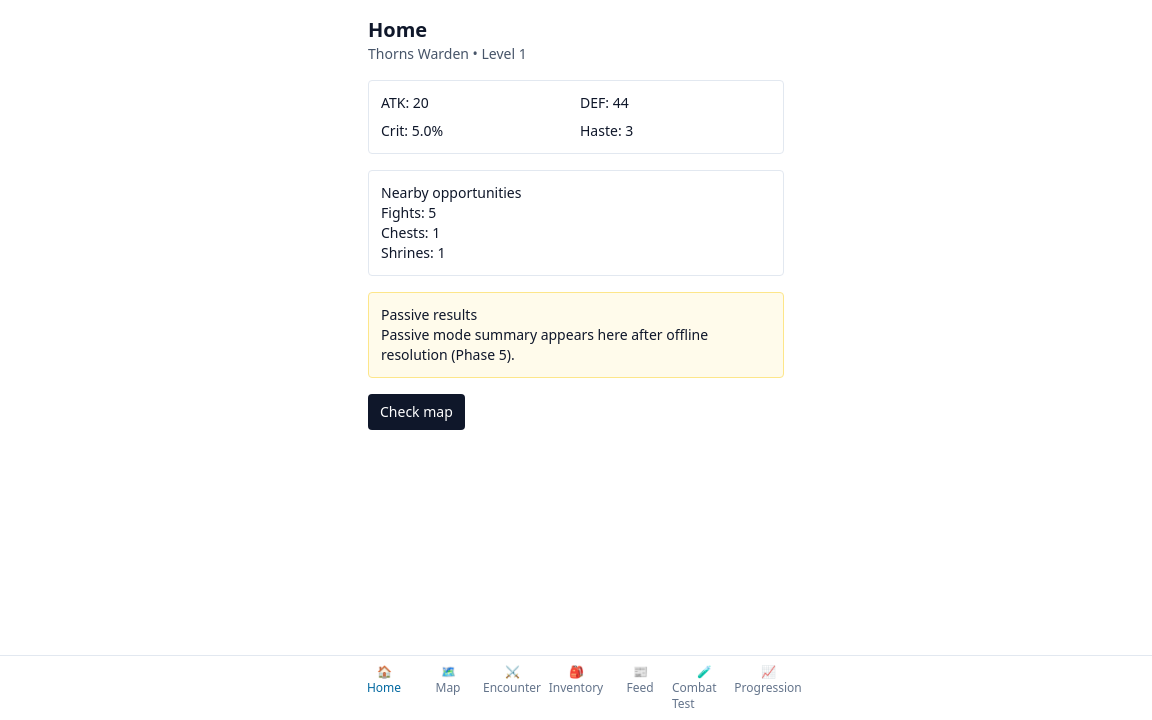
App shell routing › navigates to map and encounter fallback
Click the link named "🗺️Map" at (448, 680), box [436,663,460,696]
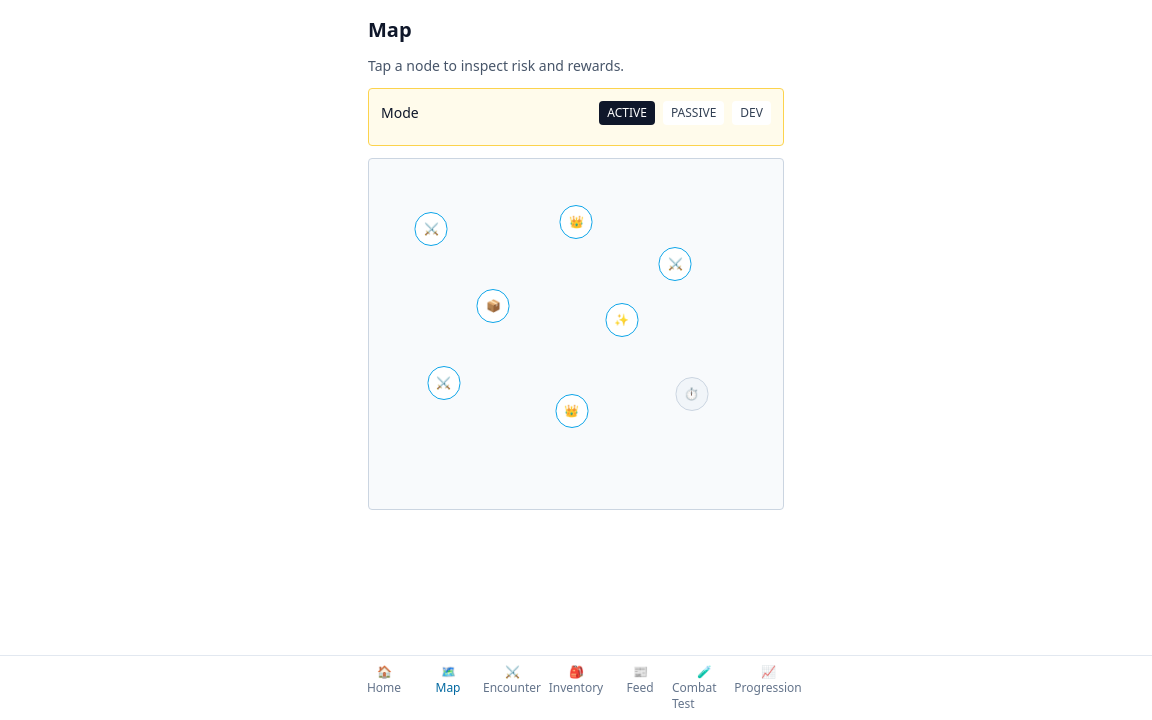
Check: the text "Tap a node to inspect risk and rewards." is shown, box [368,56,624,75]
Click the link named "⚔️Encounter" at (512, 680), box [480,656,544,704]
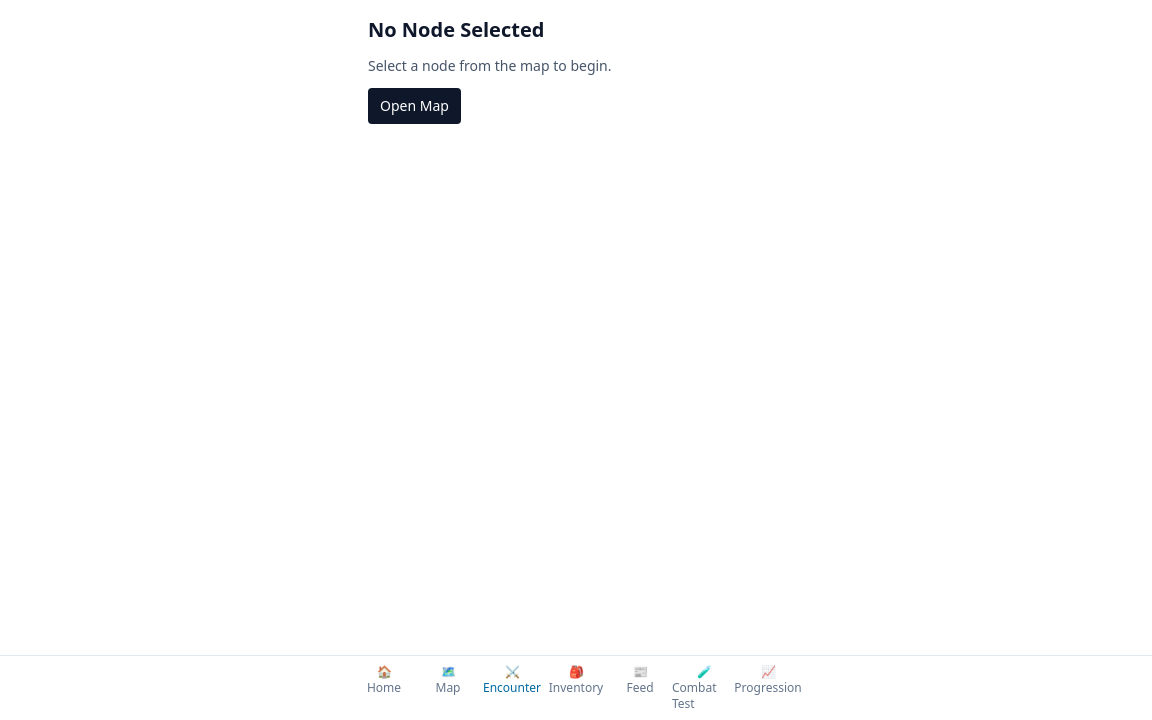
Check: the text "Select a node from the map to begin." is shown, box [368,56,612,75]
